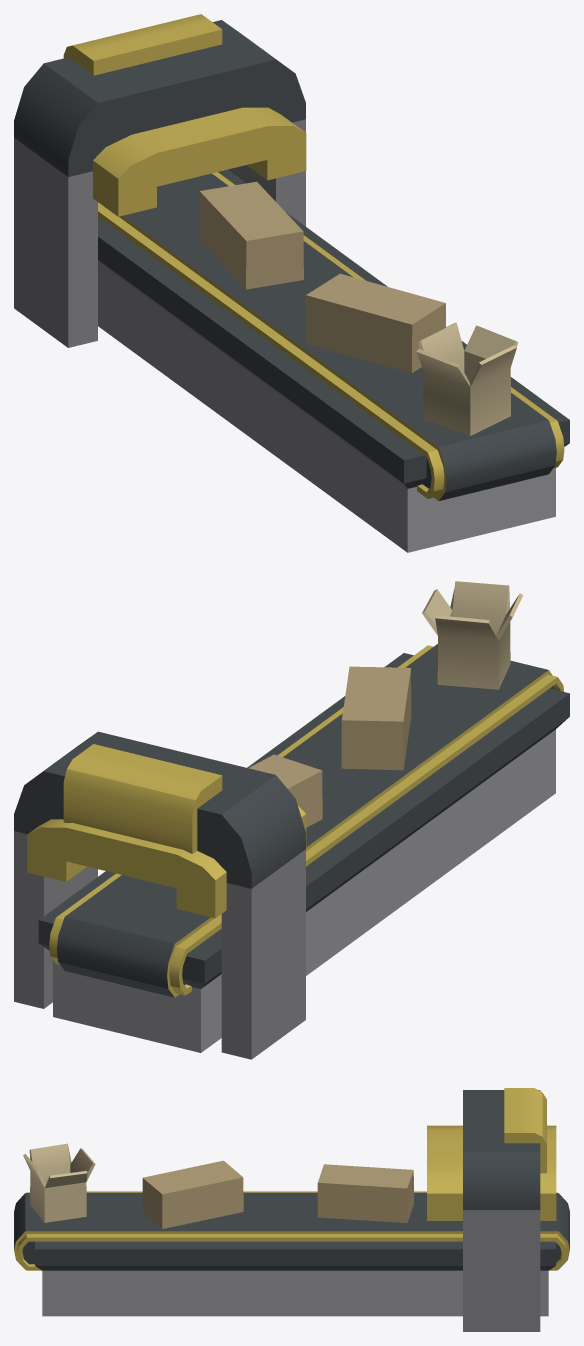
The model's file is conveer long.fbx.
3 renders of one model, top to bottom at view 1: azimuth 30°, elevation 25°; view 2: azimuth 150°, elevation 25°; view 3: azimuth 270°, elevation 25°, orthographic. The views are drawn at different scales.
Parts seen in each view (by area): view 1: conveer long; view 2: conveer long; view 3: conveer long.
Part boxes in pixels (x1,y1,x2,y2): conveer long: (14, 14, 569, 552); conveer long: (14, 581, 569, 1059); conveer long: (14, 1088, 569, 1331).
Size of the model in its own units: 101 by 102 by 286.
1 material, 1 textured.
